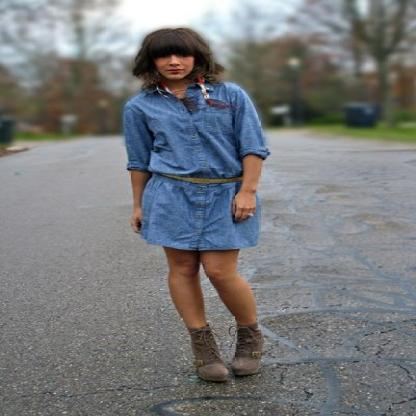dress: (112, 82, 270, 252)
shoe: (188, 320, 279, 388)
